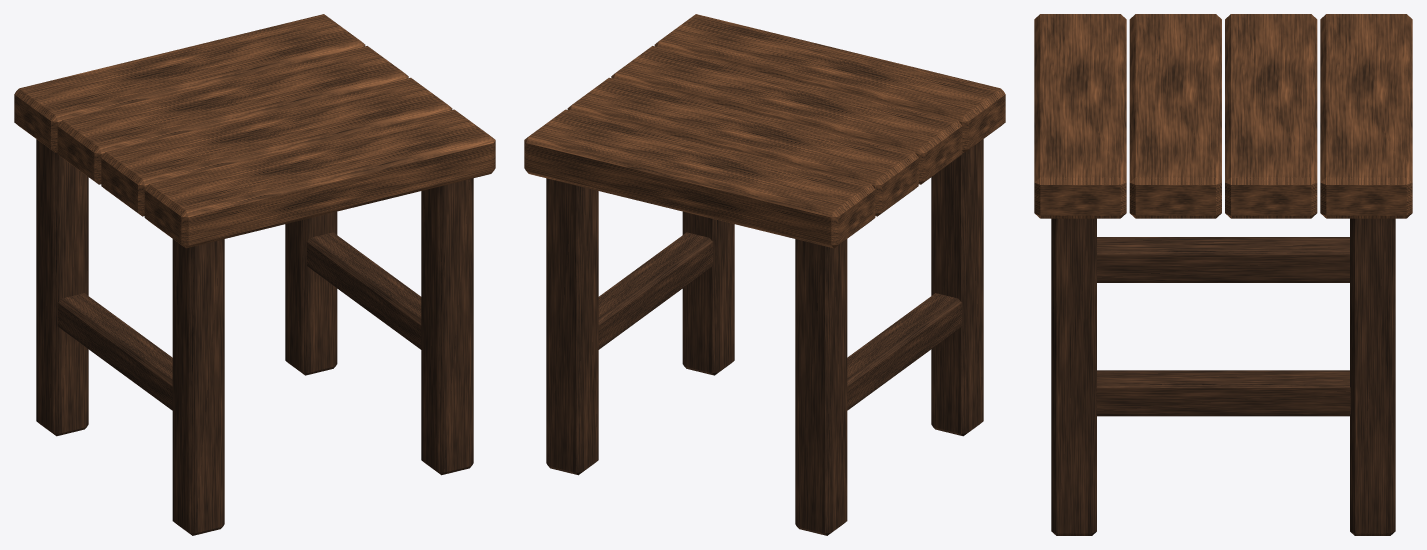
File: stool.glb
3 views of the same model, side by side, from view 1: azimuth 30°, elevation 25°; view 2: azimuth 150°, elevation 25°; view 3: azimuth 270°, elevation 25° (orthographic). The views are drawn at different scales.
Visible parts, largest first — view 1: oak, oak_dark; view 2: oak, oak_dark; view 3: oak, oak_dark.
Part boxes in pixels (x1,y1,x2,y2): oak: [14, 14, 495, 248]; oak_dark: [36, 139, 473, 535]; oak: [524, 14, 1005, 248]; oak_dark: [546, 139, 983, 535]; oak: [1034, 14, 1412, 218]; oak_dark: [1051, 218, 1395, 535].
Bounding box in the file's own units: 0.48 × 0.4875 × 0.456.
Materials: 2 (2 with a texture image).
